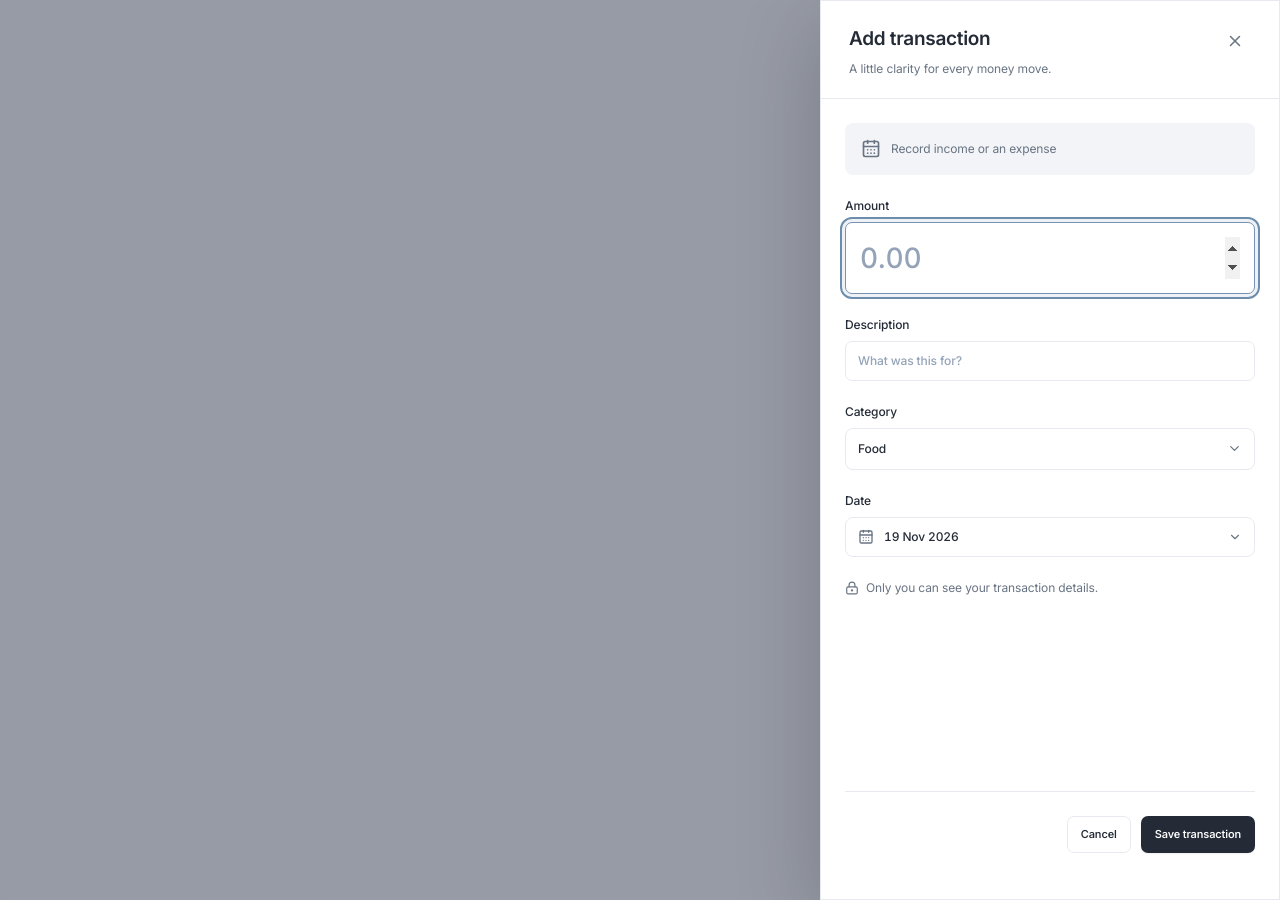
Test: Transaction UI › validates the drawer without submitting invalid money
Click the button "Save transaction": (1198, 834) x1=1141 y1=816 x2=1255 y2=852
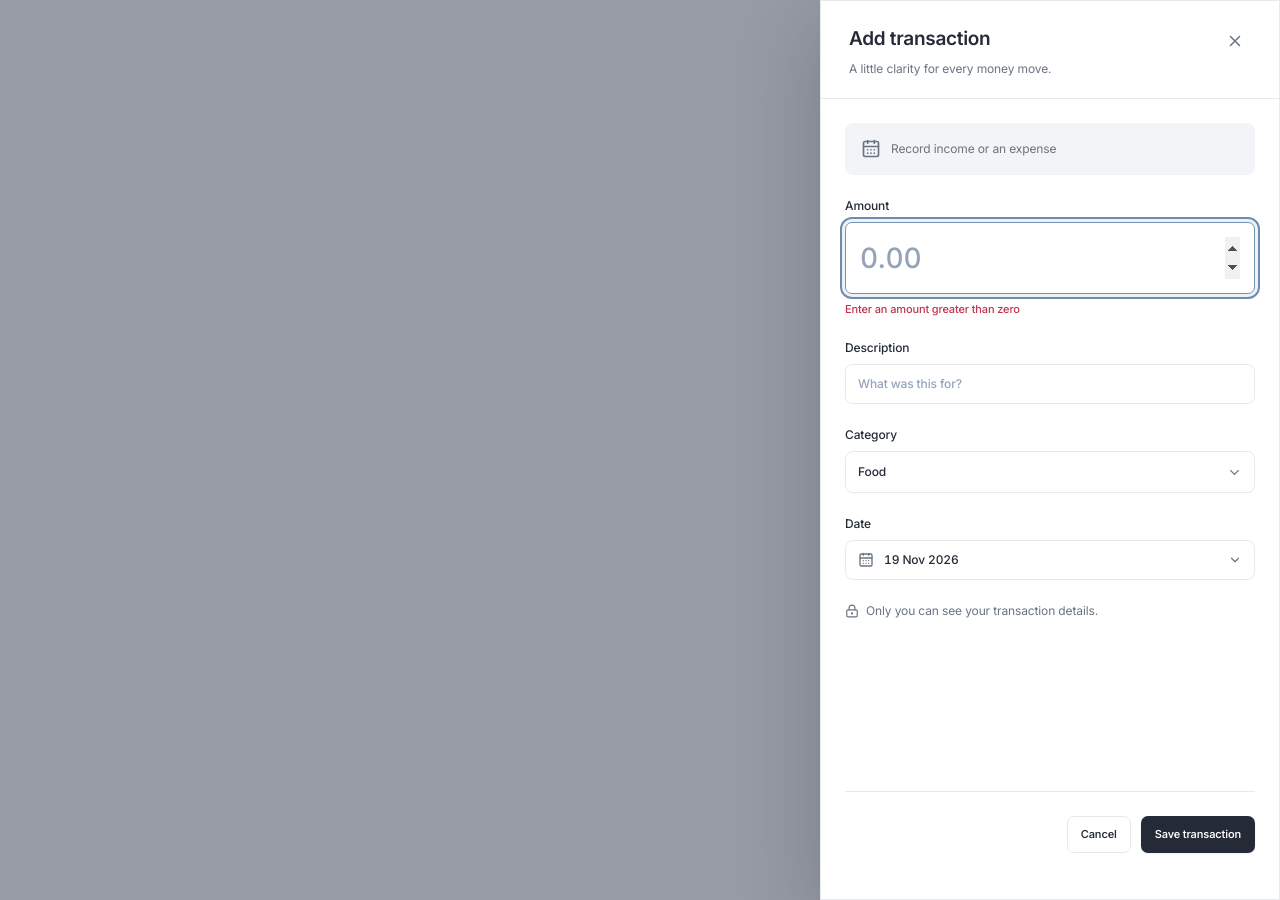
Expected: the dialog is shown, x1=820 y1=0 x2=1279 y2=899
Result: the text "Enter an amount greater than zero" is shown at x1=845 y1=302 x2=1020 y2=316
